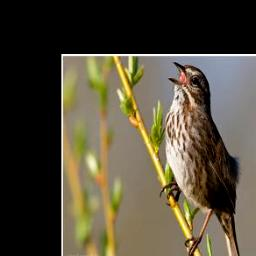Sparrow: (159, 61, 241, 256)
